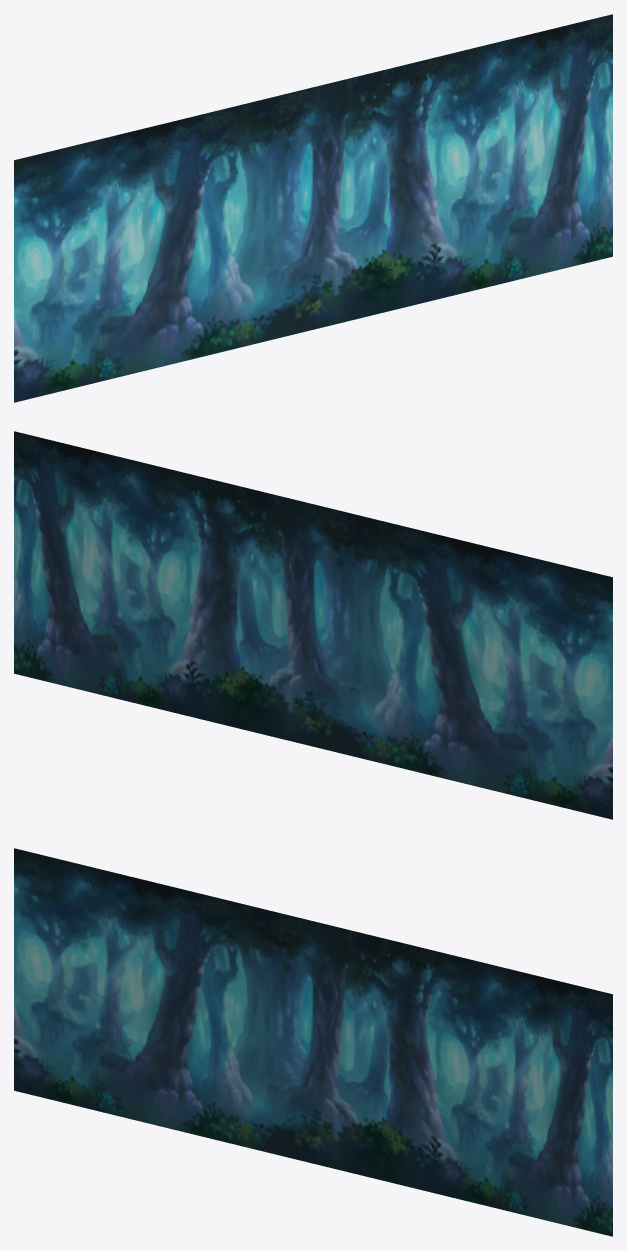
The model's file is BG001_deco_53.fbx.
3 renders of one model, top to bottom at view 1: azimuth 30°, elevation 25°; view 2: azimuth 150°, elevation 25°; view 3: azimuth 330°, elevation 25°, orthographic.
Parts seen in each view (by area): view 1: backbg_03_ms_opq; view 2: backbg_03_ms_opq; view 3: backbg_03_ms_opq.
Part boxes in pixels (x1=…): backbg_03_ms_opq: x1=14, y1=14, x2=612, y2=402; backbg_03_ms_opq: x1=14, y1=431, x2=612, y2=819; backbg_03_ms_opq: x1=14, y1=848, x2=612, y2=1236.
Size of the model in its own units: 2808 by 1086 by 5.96e-07.
